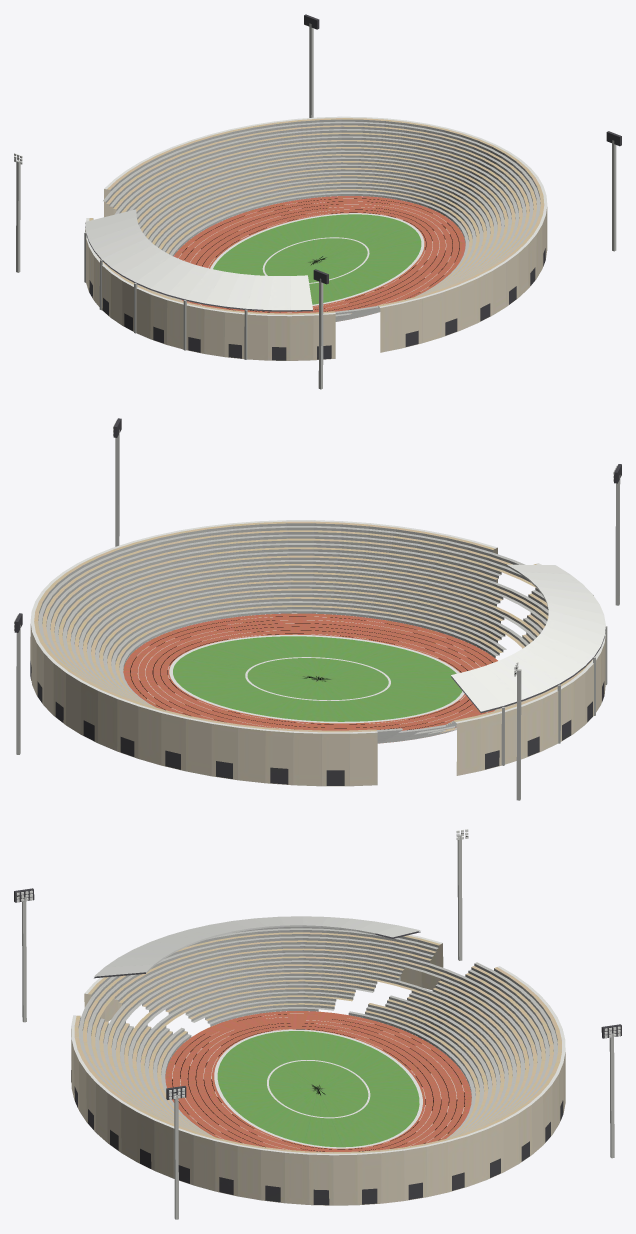
File: lm_stade_modibo_keita.glb
3 views of the same model, one above another, from view 1: azimuth 30°, elevation 25°; view 2: azimuth 150°, elevation 25°; view 3: azimuth 270°, elevation 25° (orthographic). The views are drawn at different scales.
Visible parts, largest first — view 1: LM_Stade_Modibo_Keita; view 2: LM_Stade_Modibo_Keita; view 3: LM_Stade_Modibo_Keita.
Part boxes in pixels (x1,y1,x2,y2): LM_Stade_Modibo_Keita: (14, 14, 621, 389); LM_Stade_Modibo_Keita: (14, 418, 621, 800); LM_Stade_Modibo_Keita: (14, 829, 621, 1219).
Size of the model in its own units: 0.35 by 0.0835 by 0.3447.
Materials: 1 (1 with a texture image).
